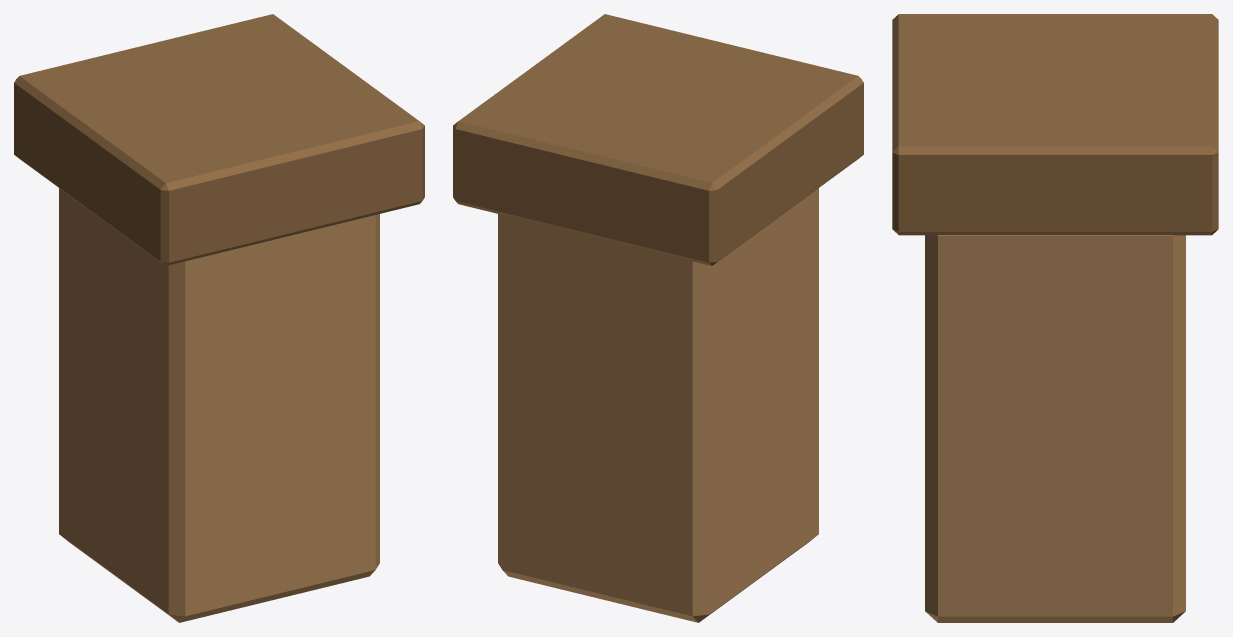
File: pilier_bois_haut.glb
The picture shows the model from 3 angles, left to right: view 1: azimuth 30°, elevation 25°; view 2: azimuth 150°, elevation 25°; view 3: azimuth 270°, elevation 25°; orthographic projection. The views are drawn at different scales.
Visible parts, largest first — view 1: pilier_bois_haut_planche.002, pilier_bois_haut_planche_sombre.002; view 2: pilier_bois_haut_planche.002, pilier_bois_haut_planche_sombre.002; view 3: pilier_bois_haut_planche.002, pilier_bois_haut_planche_sombre.002.
Part boxes in pixels (<box>): pilier_bois_haut_planche.002: <box>59,188,379,622</box>; pilier_bois_haut_planche_sombre.002: <box>14,14,424,265</box>; pilier_bois_haut_planche.002: <box>498,188,818,622</box>; pilier_bois_haut_planche_sombre.002: <box>453,14,863,265</box>; pilier_bois_haut_planche.002: <box>925,235,1185,622</box>; pilier_bois_haut_planche_sombre.002: <box>892,14,1218,235</box>.
Bounding box in the file's own units: 0.3 × 0.5 × 0.3.
